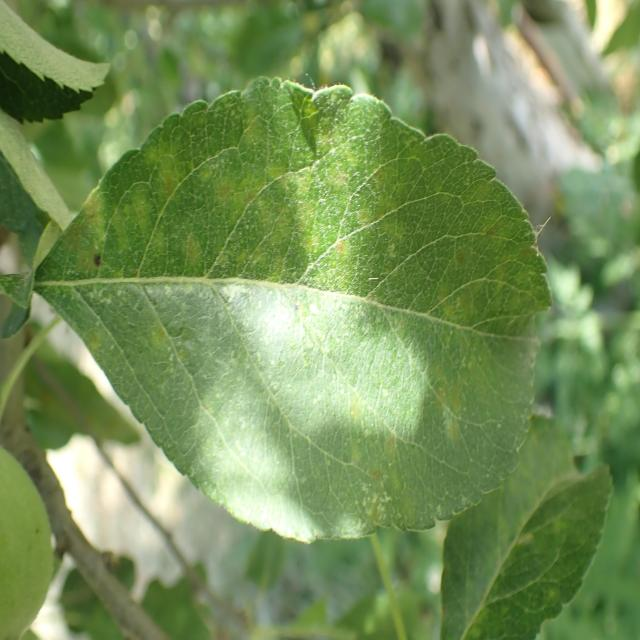scab: (36, 79, 532, 520), (432, 445, 597, 637)
